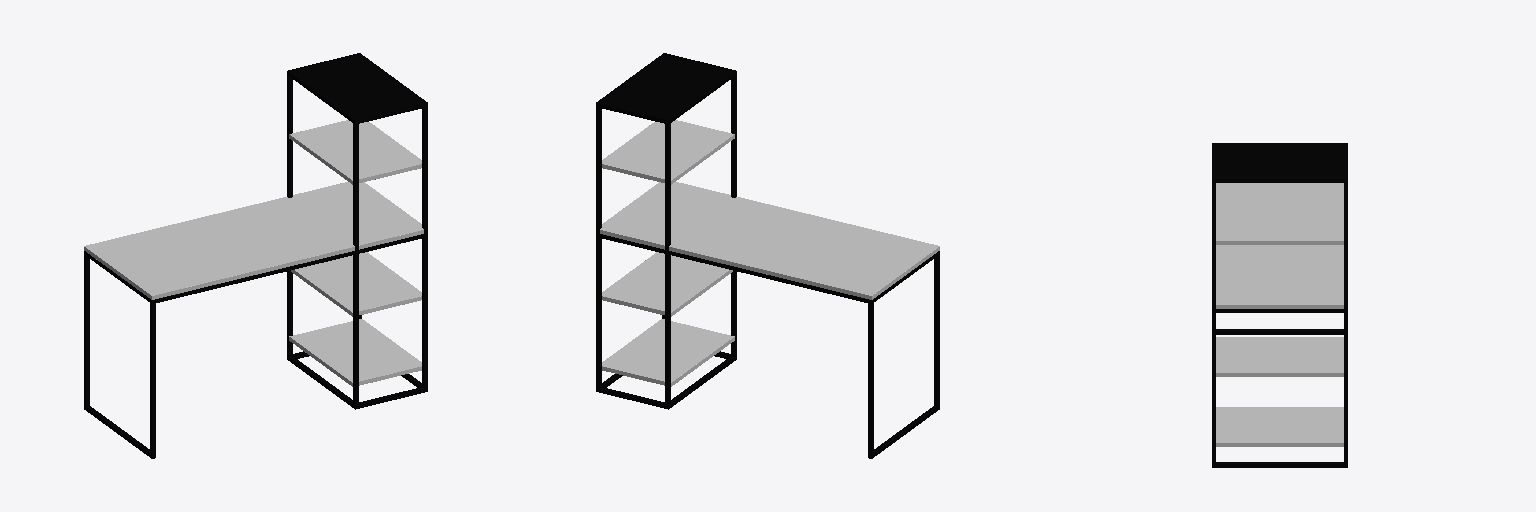
Rendered from desk.obj.
The picture shows the model from 3 angles: view 1: azimuth 30°, elevation 25°; view 2: azimuth 150°, elevation 25°; view 3: azimuth 270°, elevation 25°; orthographic projection.
Visible parts, largest first — view 1: Desk; view 2: Desk; view 3: Desk.
Boxes of the visible parts, x1,y1,x2,y2 form: Desk: [84, 53, 427, 458]; Desk: [596, 53, 939, 458]; Desk: [1212, 143, 1347, 467].
Size of the model in its own units: 1.4 by 1.4 by 0.6.